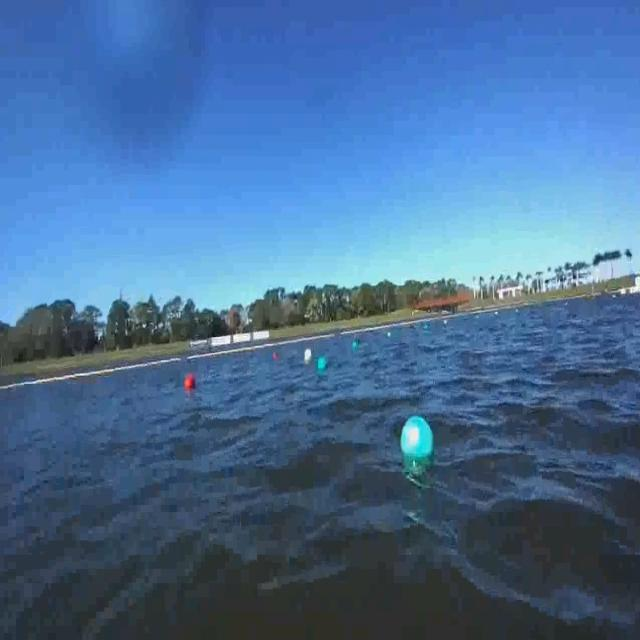green-buoy: (401, 414, 436, 462), (317, 356, 327, 370)
red-buoy: (184, 375, 197, 394)
